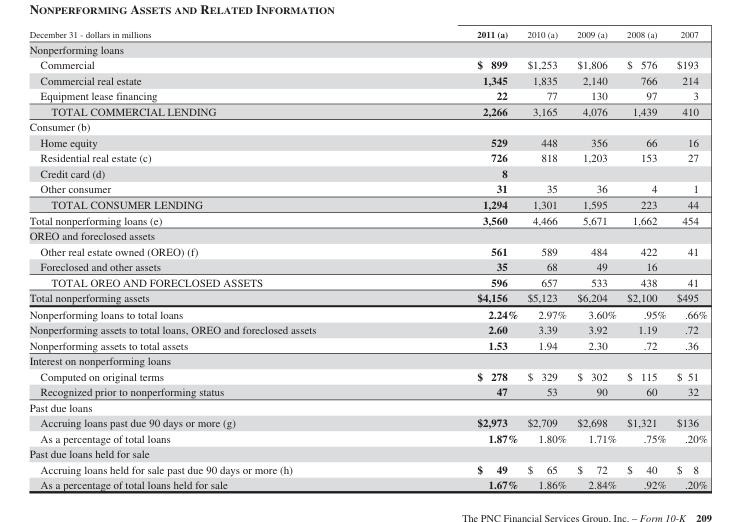table: (28, 29, 706, 490)
table column: (28, 29, 395, 490), (395, 29, 522, 490), (620, 29, 670, 490), (522, 29, 571, 490), (571, 29, 620, 490), (670, 29, 706, 490)
table column header: (28, 29, 706, 41)
table projected row header: (28, 118, 706, 134), (28, 352, 706, 368), (28, 445, 706, 461), (28, 41, 706, 56), (28, 227, 706, 242), (28, 399, 706, 414)
table row: (28, 56, 706, 72), (28, 87, 706, 103), (28, 118, 706, 134), (28, 149, 706, 165), (28, 180, 706, 196), (28, 211, 706, 227), (28, 242, 706, 258), (28, 273, 706, 289), (28, 289, 706, 305), (28, 305, 706, 321), (28, 321, 706, 337), (28, 352, 706, 368), (28, 383, 706, 399), (28, 414, 706, 430), (28, 445, 706, 461), (28, 41, 706, 56), (28, 72, 706, 87), (28, 103, 706, 118), (28, 134, 706, 149), (28, 165, 706, 180), (28, 196, 706, 211), (28, 227, 706, 242), (28, 258, 706, 273), (28, 337, 706, 352), (28, 368, 706, 383), (28, 399, 706, 414), (28, 430, 706, 445), (28, 461, 706, 476), (28, 476, 706, 490), (28, 29, 706, 41)
